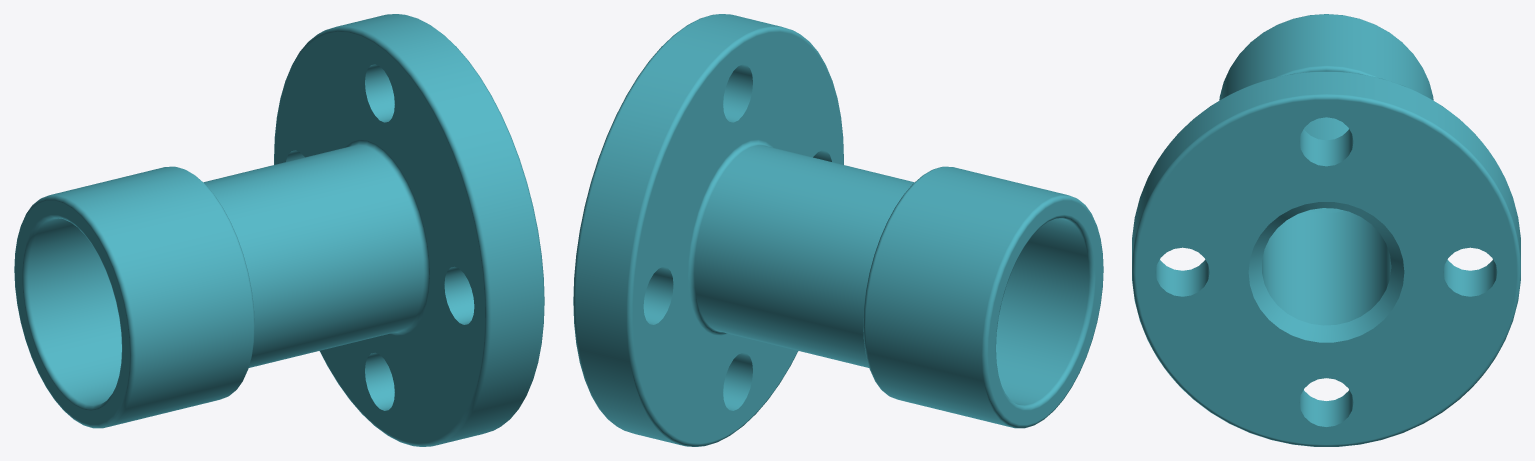
The picture shows the model from 3 angles, left to right: view 1: azimuth 30°, elevation 25°; view 2: azimuth 150°, elevation 25°; view 3: azimuth 270°, elevation 25°; orthographic projection. The views are drawn at different scales.
Parts seen in each view (by area): view 1: Solid1; view 2: Solid1; view 3: Solid1.
Part boxes in pixels (bbox=[...]): Solid1: bbox=[14, 14, 544, 446]; Solid1: bbox=[573, 14, 1103, 446]; Solid1: bbox=[1132, 14, 1520, 446].
Size of the model in its own units: 0.0884 by 0.09 by 0.0898.
